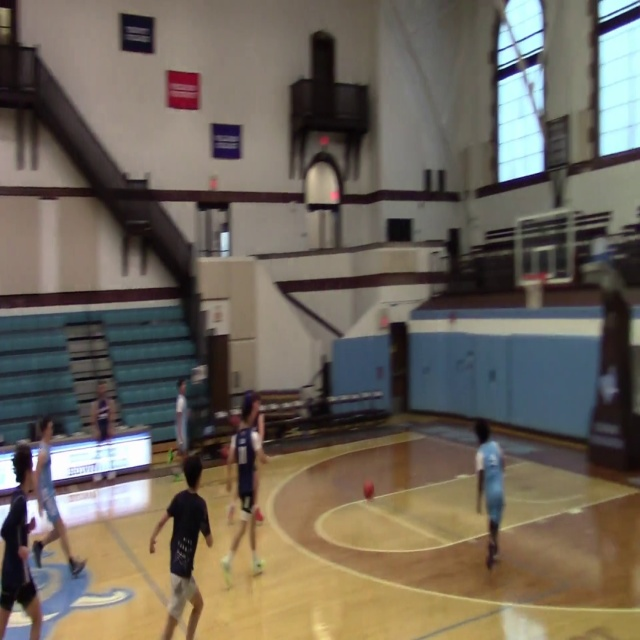Basketball: (363, 480, 374, 498), (253, 506, 264, 523)
